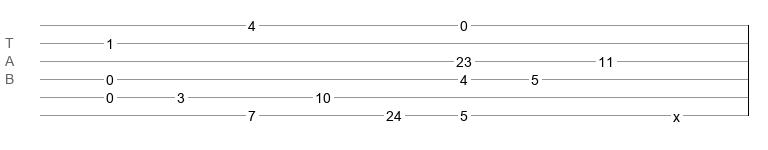0: (106, 72, 114, 82), (106, 90, 114, 100), (460, 18, 468, 28)
1: (106, 36, 114, 46)
10: (315, 90, 331, 100)
11: (598, 54, 614, 64)
23: (456, 54, 472, 64)
24: (386, 108, 402, 118)
3: (177, 90, 185, 100)
4: (248, 18, 256, 28), (460, 72, 468, 82)
5: (460, 108, 468, 118), (531, 72, 539, 82)
7: (248, 108, 256, 118)
x: (673, 109, 680, 117)
